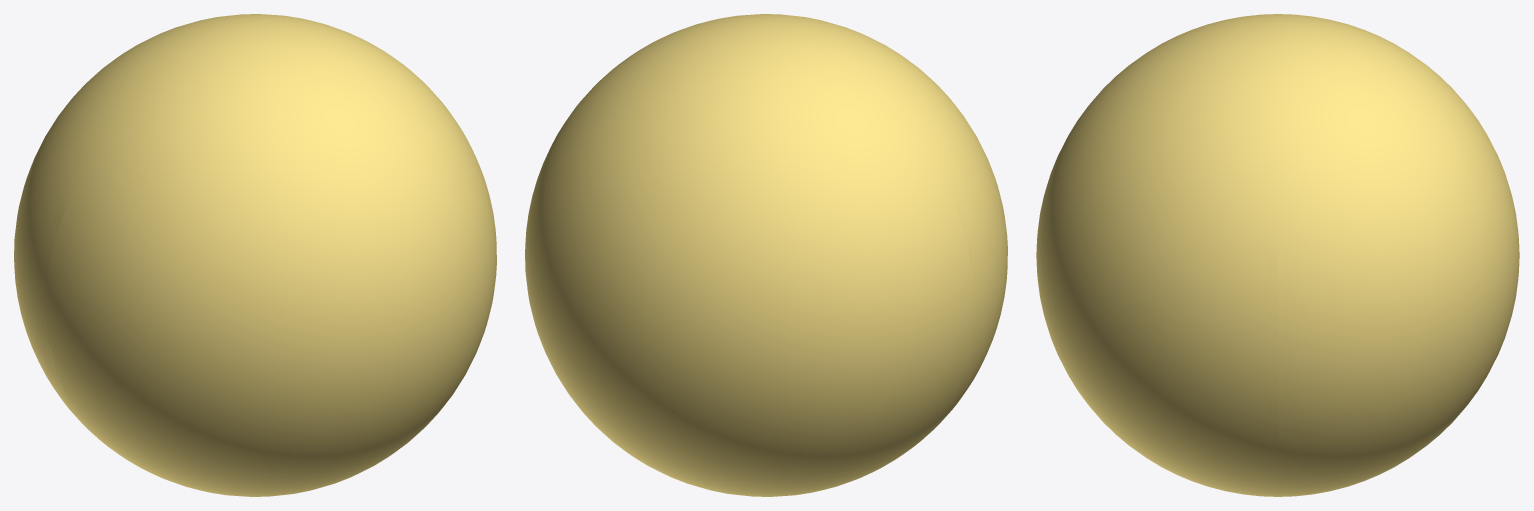
The model's file is Fuel.fbx.
3 renders of one model, left to right at view 1: azimuth 30°, elevation 25°; view 2: azimuth 150°, elevation 25°; view 3: azimuth 270°, elevation 25°, orthographic.
Visible parts, largest first — view 1: GE-26900: Fuel; view 2: GE-26900: Fuel; view 3: GE-26900: Fuel.
Boxes of the visible parts, x1=… form: GE-26900: Fuel: x1=14, y1=14, x2=496, y2=496; GE-26900: Fuel: x1=525, y1=14, x2=1007, y2=496; GE-26900: Fuel: x1=1036, y1=14, x2=1519, y2=496.
Bounding box in the file's own units: 0.15 × 0.15 × 0.15.
